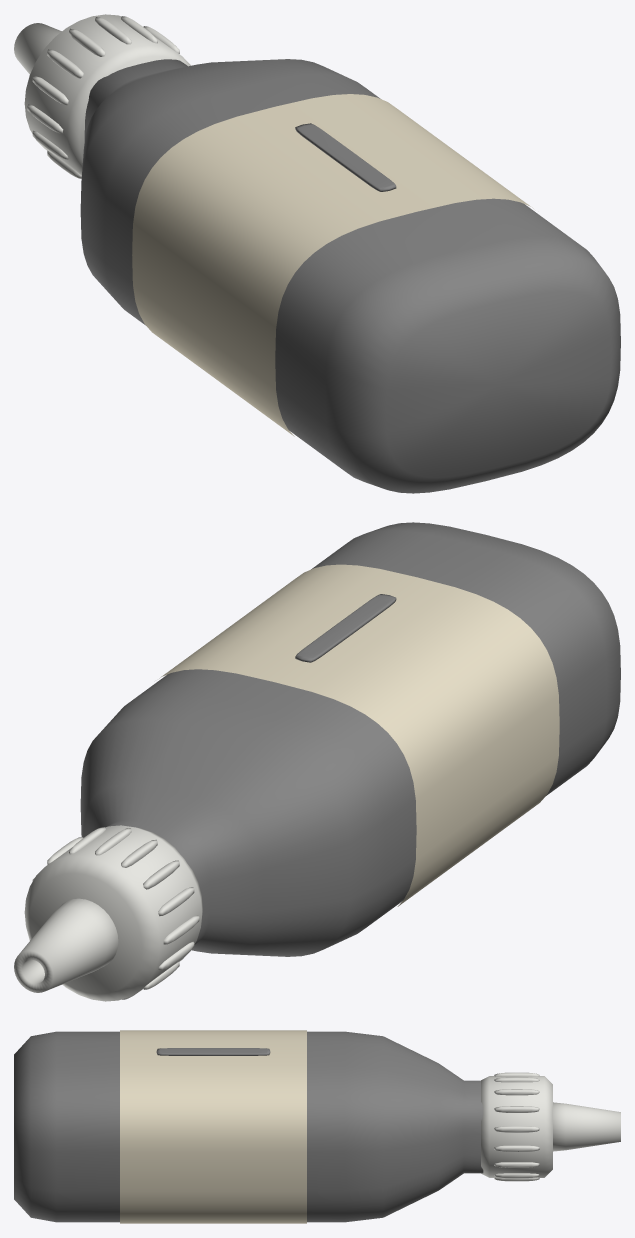
The model's file is iodine_bottle.glb.
3 views of the same model, one above another, from view 1: azimuth 30°, elevation 25°; view 2: azimuth 150°, elevation 25°; view 3: azimuth 270°, elevation 25° (orthographic). The views are drawn at different scales.
Parts seen in each view (by area): view 1: Bottle, Label, Collar, Mark, Spout; view 2: Bottle, Label, Collar, Spout, Mark; view 3: Bottle, Label, Collar, Spout, Mark.
Part boxes in pixels (x1=…): Bottle: x1=80, y1=59, x2=620, y2=493; Label: x1=132, y1=94, x2=533, y2=436; Collar: x1=24, y1=14, x2=190, y2=178; Mark: x1=295, y1=123, x2=396, y2=191; Spout: x1=14, y1=23, x2=61, y2=74; Bottle: x1=80, y1=522, x2=620, y2=956; Label: x1=159, y1=564, x2=559, y2=906; Collar: x1=24, y1=825, x2=202, y2=1001; Spout: x1=14, y1=898, x2=118, y2=992; Mark: x1=295, y1=594, x2=396, y2=662; Bottle: x1=14, y1=1031, x2=483, y2=1222; Label: x1=120, y1=1030, x2=306, y2=1223; Collar: x1=481, y1=1072, x2=552, y2=1181; Spout: x1=553, y1=1102, x2=620, y2=1151; Mark: x1=156, y1=1048, x2=270, y2=1055.
Size of the model in its own units: 0.0505 by 0.039 by 0.143.
